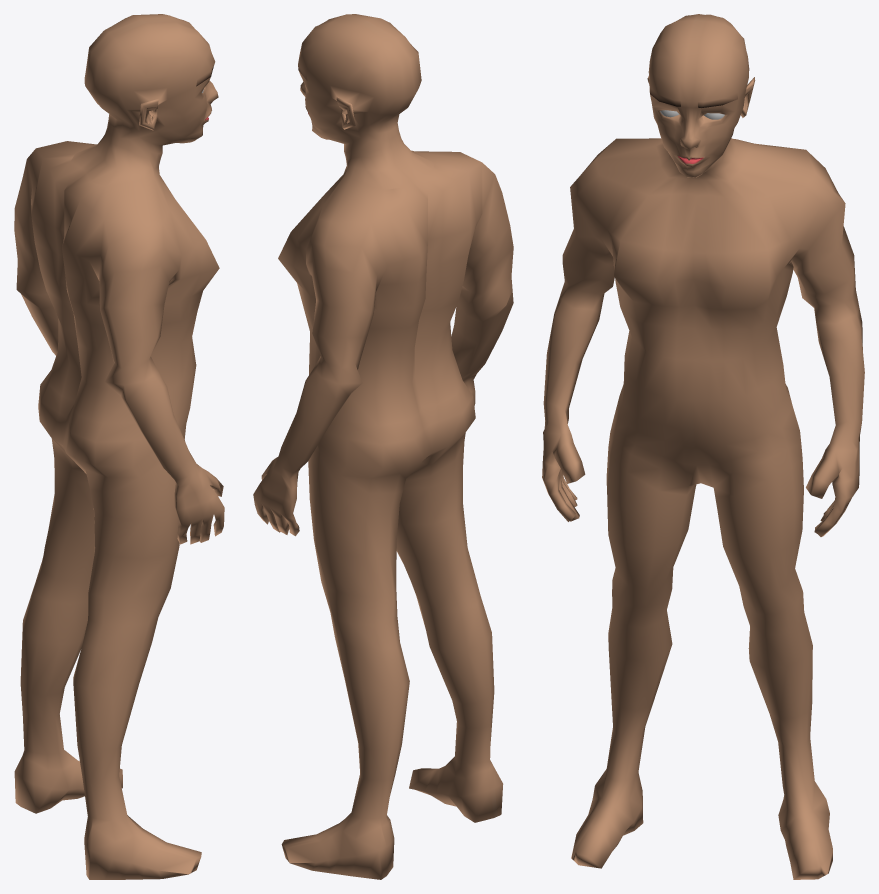
Rendered from boneco24.glb.
The picture shows the model from 3 angles, left to right: view 1: azimuth 30°, elevation 25°; view 2: azimuth 150°, elevation 25°; view 3: azimuth 270°, elevation 25°; orthographic projection. The views are drawn at different scales.
Parts seen in each view (by area): view 1: Plane.028; view 2: Plane.028; view 3: Plane.028.
Part boxes in pixels (x1,y1,x2,y2): Plane.028: (14, 14, 224, 879); Plane.028: (253, 14, 513, 879); Plane.028: (542, 14, 864, 879).
Size of the model in its own units: 0.7455 by 3.47 by 1.2.
